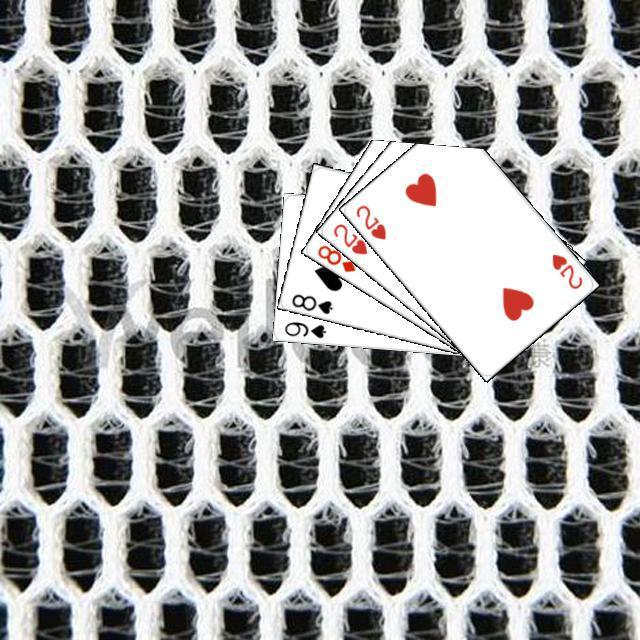2h: (328, 218, 369, 256), (547, 249, 584, 291), (351, 200, 388, 241)
8d: (312, 240, 357, 274)
8s: (287, 289, 334, 316)
9s: (280, 317, 327, 340)
